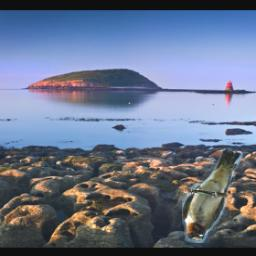Swallow: (183, 148, 244, 243)
